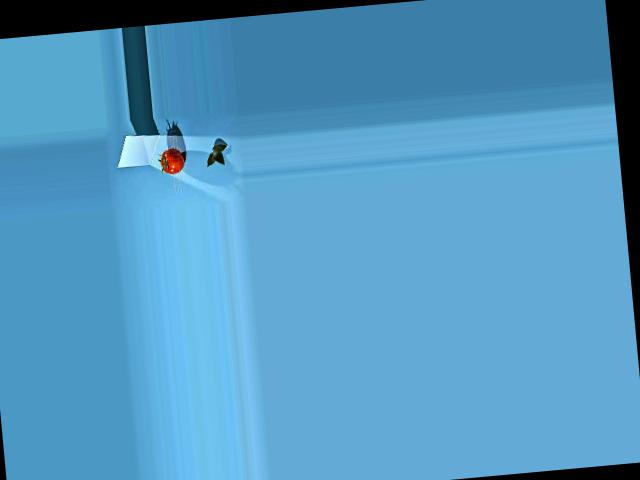tomato: (159, 147, 185, 175)
